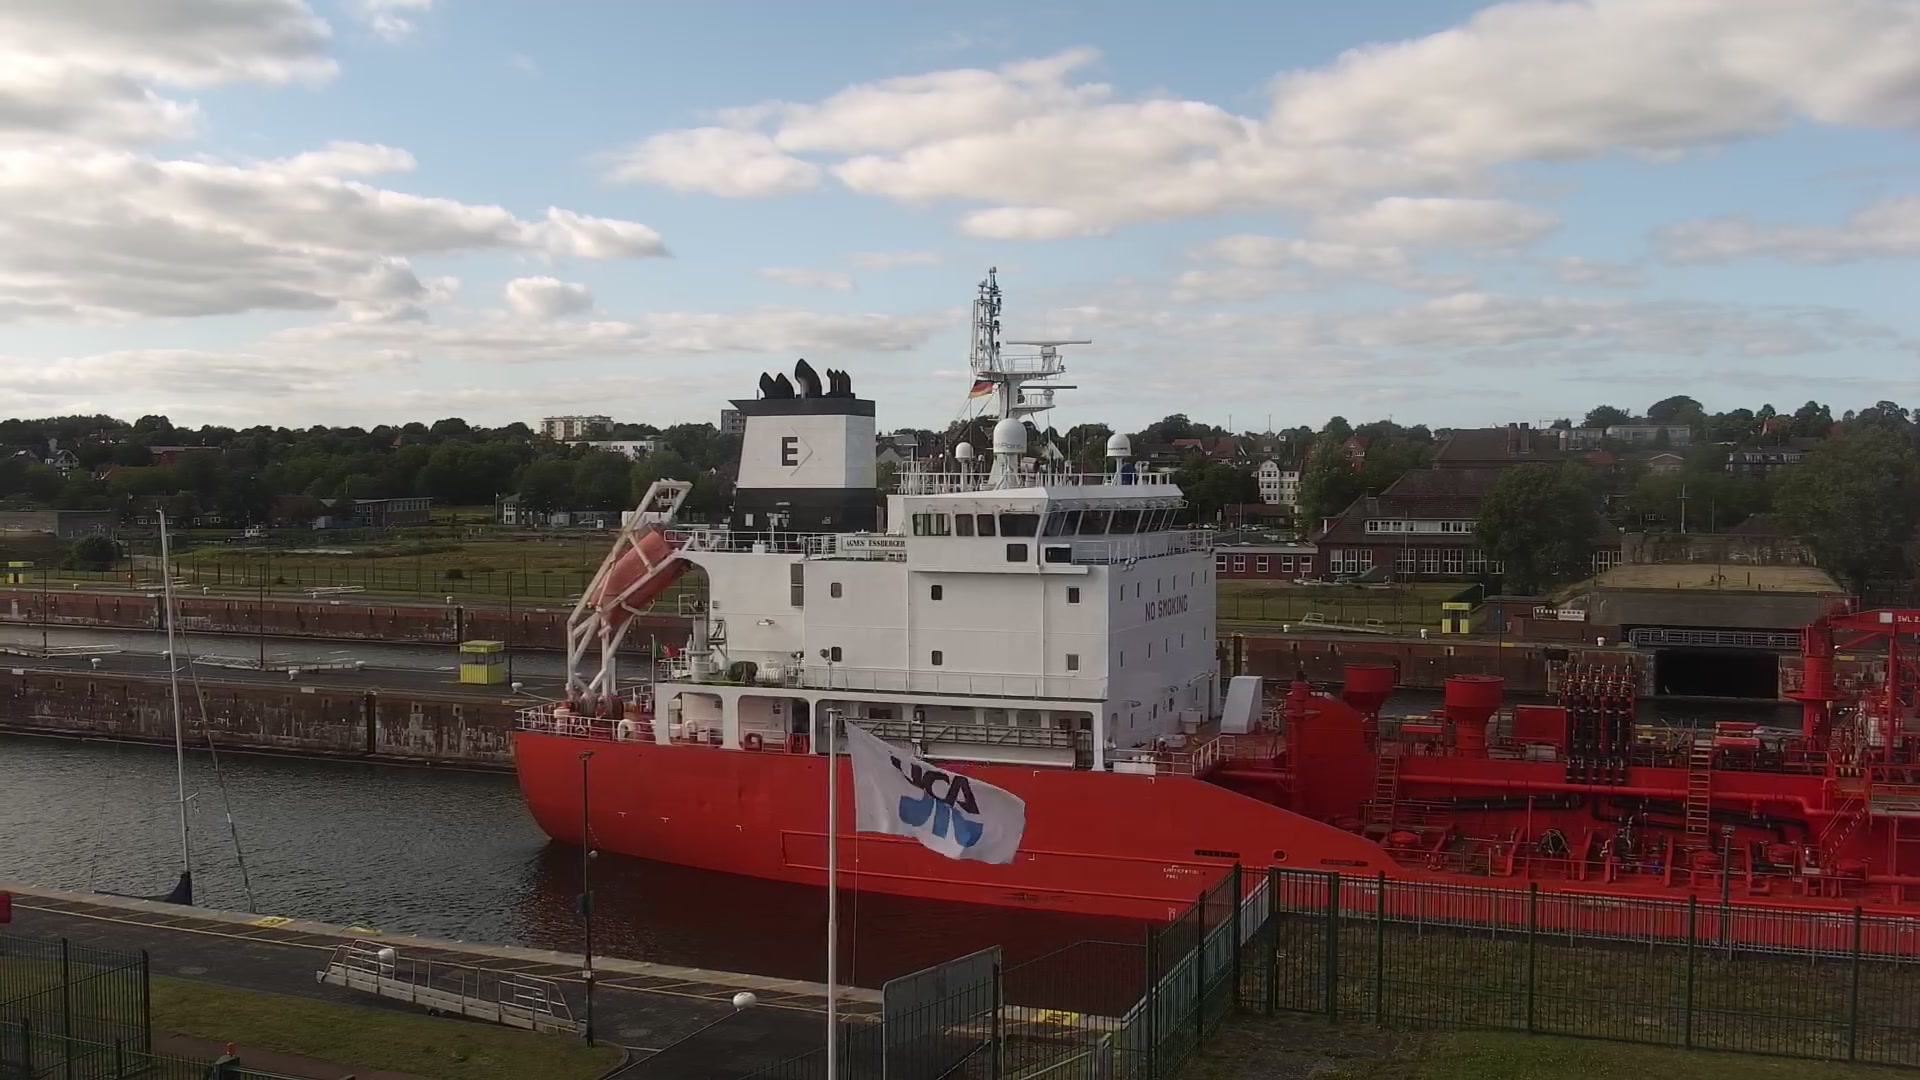land: (576, 517, 596, 526), (1185, 520, 1201, 529), (1251, 524, 1269, 531), (1203, 521, 1217, 530), (1236, 524, 1251, 531)
sea: (506, 262, 1919, 957), (91, 502, 285, 916)
